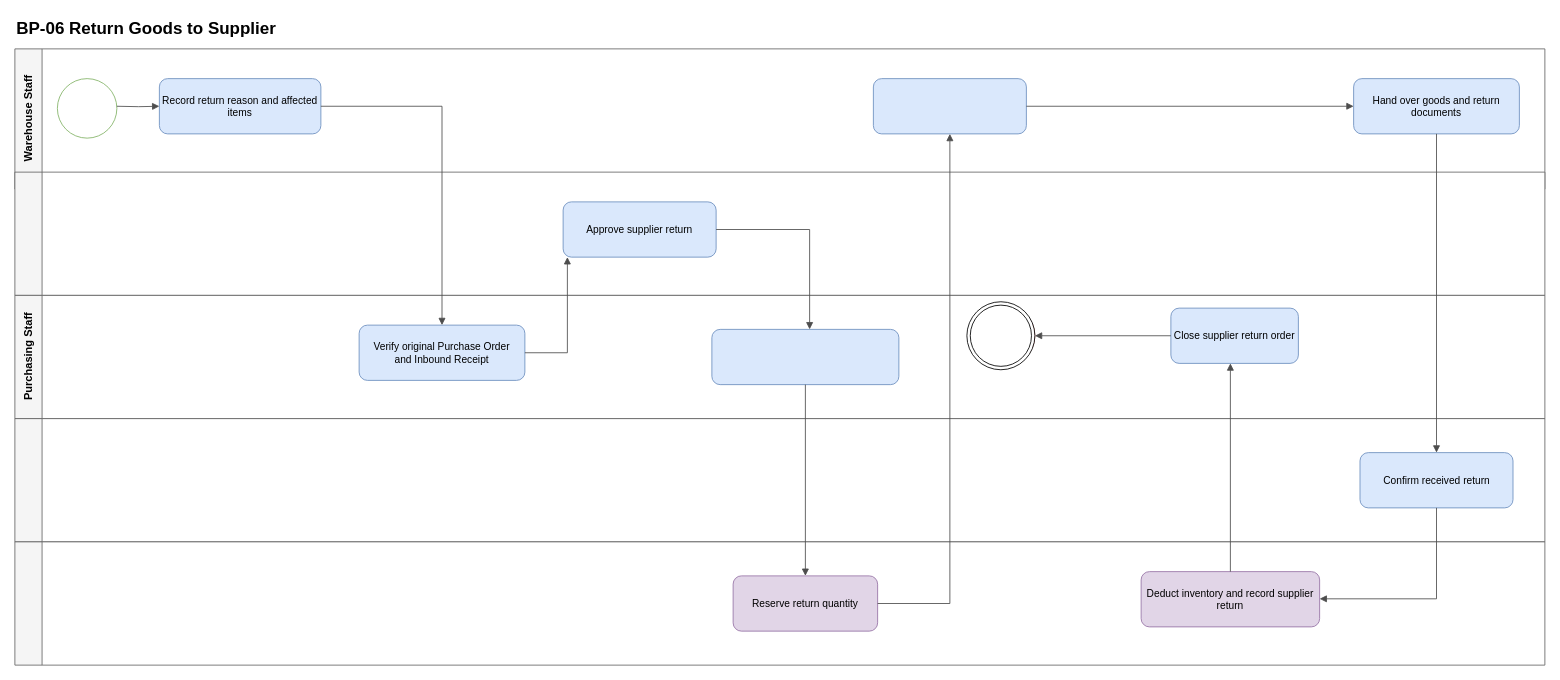
This 1560x680 diagram has some shape labels left out. Here are the shapes that lost their labels. From the top down, the box of each, then its label:
(873, 78, 1026, 134): Pick and pack return goods
(14, 171, 1545, 295): Warehouse Manager
(711, 329, 899, 385): Create Supplier Return Outbound Order referencing PO / receipt
(14, 418, 1545, 542): Supplier
(14, 541, 1545, 665): BMWMS
